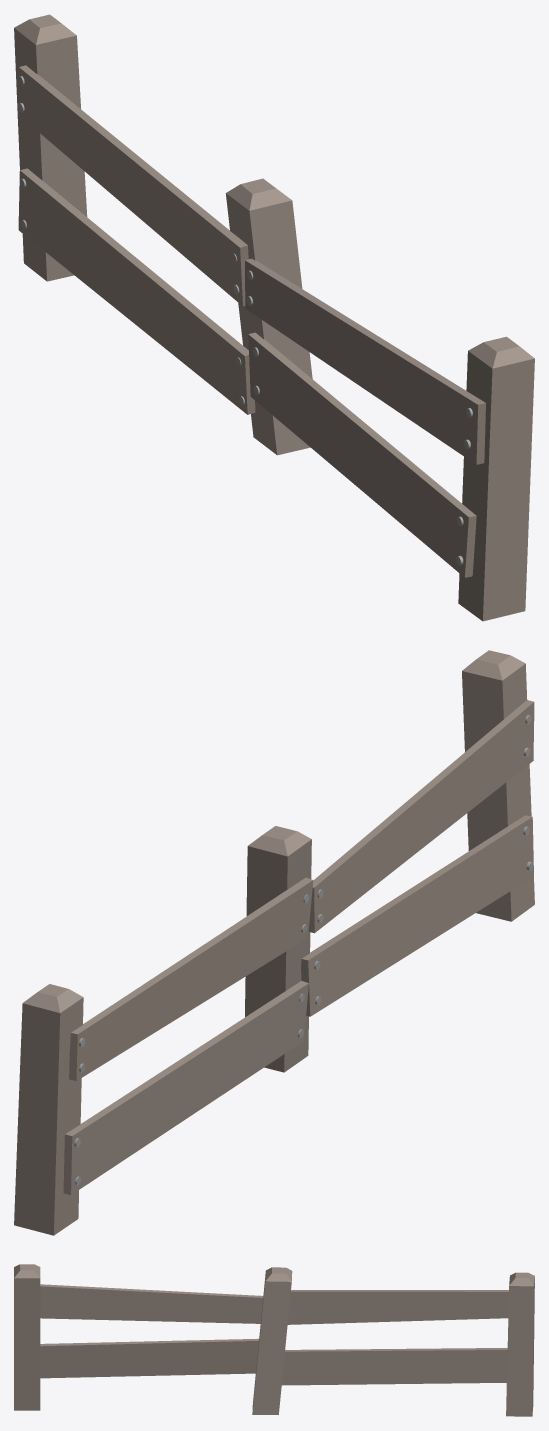
File: Mystic_Fence_L.fbx
3 views of the same model, one above another, from view 1: azimuth 30°, elevation 25°; view 2: azimuth 150°, elevation 25°; view 3: azimuth 270°, elevation 25° (orthographic). The views are drawn at different scales.
Parts seen in each view (by area): view 1: Fence4; view 2: Fence4; view 3: Fence4.
Boxes of the visible parts, left/top/right/bottom form: Fence4: left=14, top=14, right=534, bottom=621; Fence4: left=14, top=650, right=534, bottom=1235; Fence4: left=14, top=1264, right=534, bottom=1416.
Bounding box in the file's own units: 39.16 × 129 × 434.
